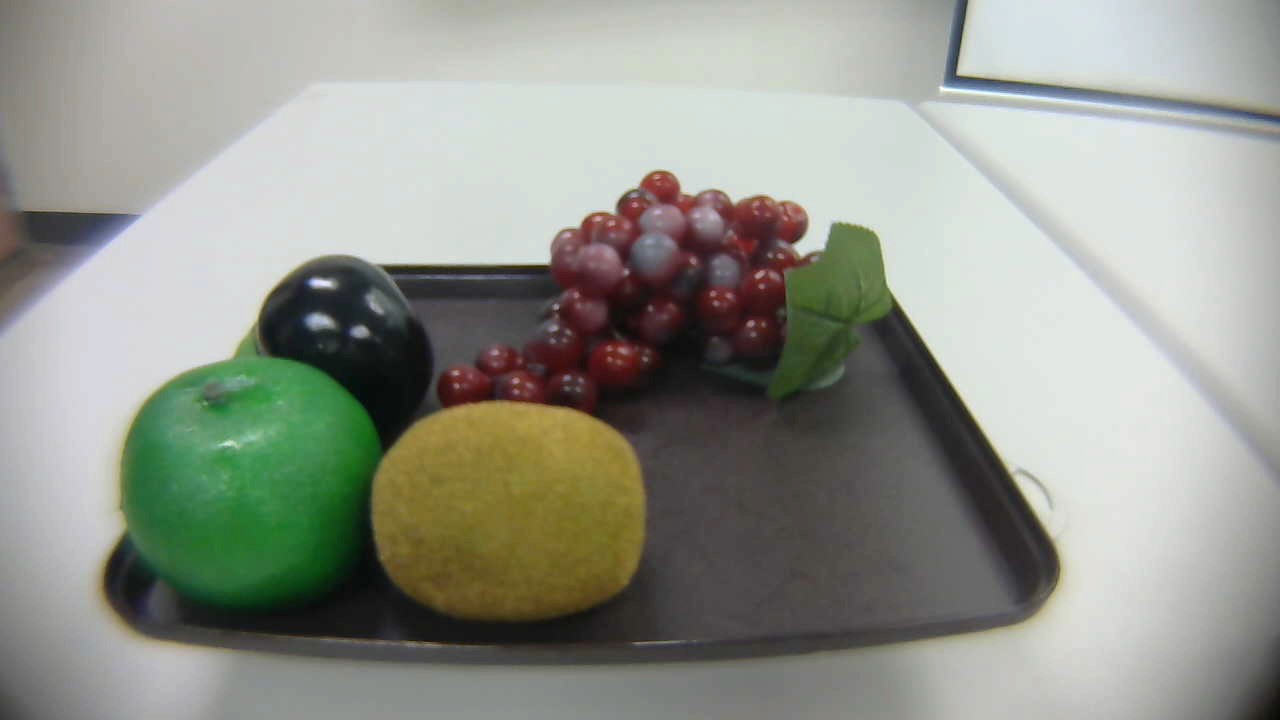grape: (437, 168, 892, 434)
green orange: (112, 348, 403, 634)
kiwi fruit: (355, 391, 658, 619)
mangosteen: (232, 248, 438, 427)
